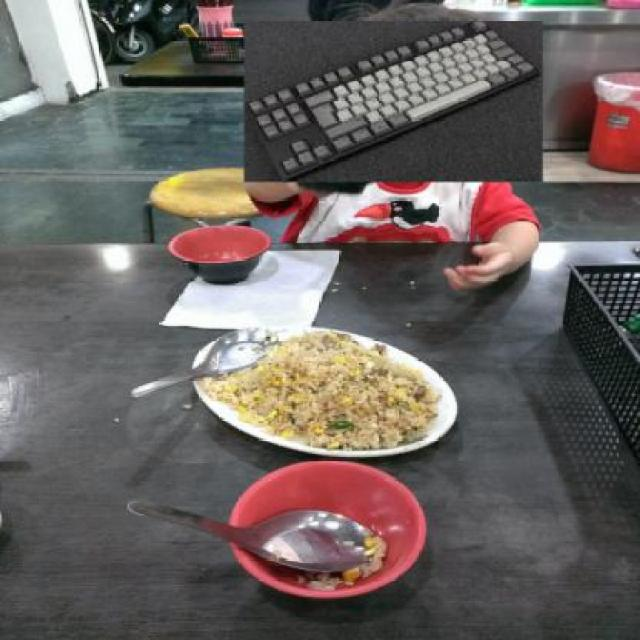keyboard: (253, 26, 541, 171)
